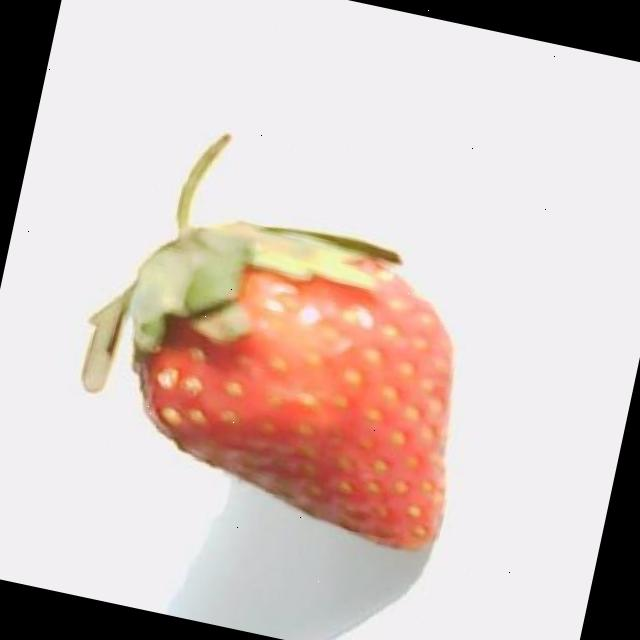strawberry: (83, 133, 451, 547)
